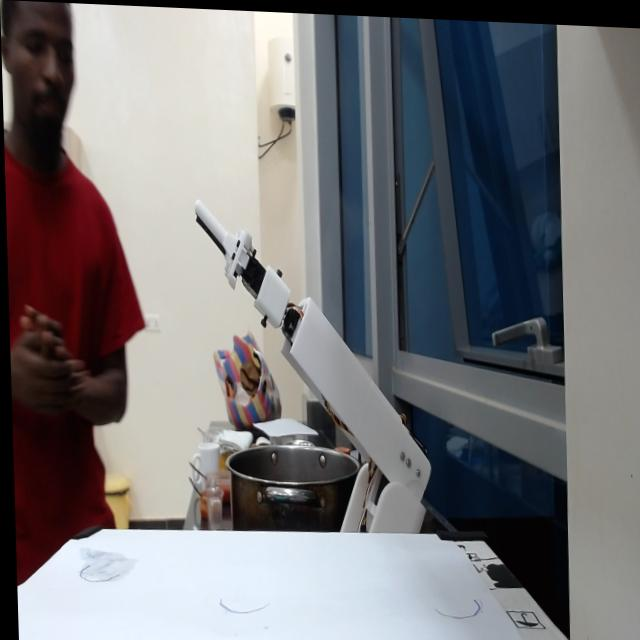cooking_pot: (220, 429, 359, 526)
